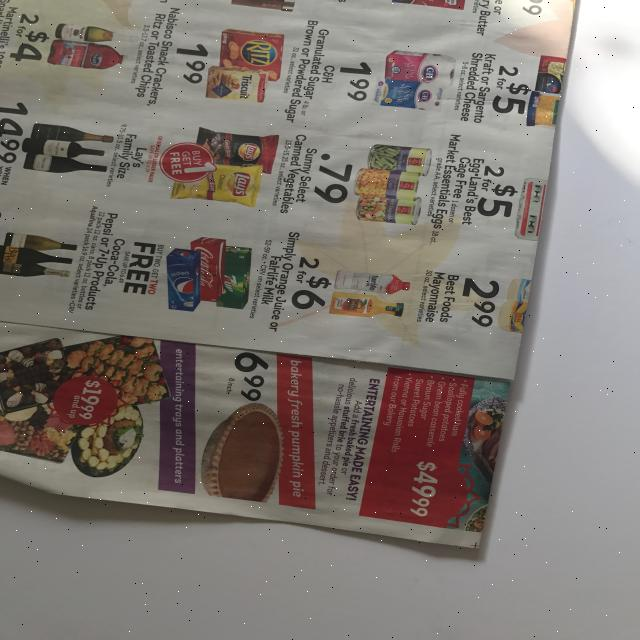paper: (1, 2, 578, 558)
